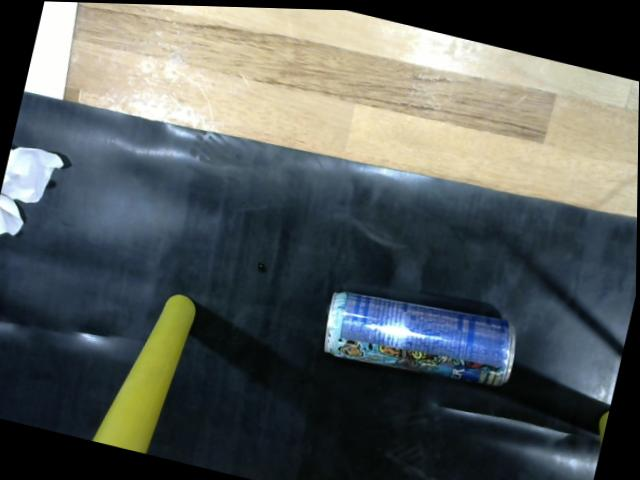can: (316, 288, 518, 397)
